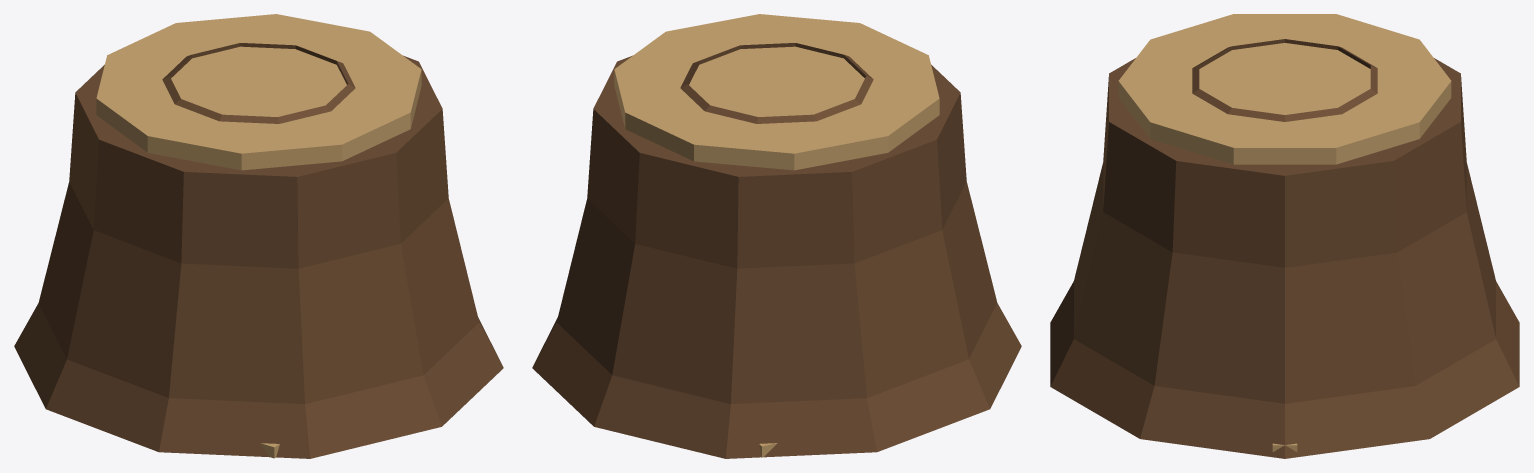
File: stump.glb
The picture shows the model from 3 angles, left to right: view 1: azimuth 30°, elevation 25°; view 2: azimuth 150°, elevation 25°; view 3: azimuth 270°, elevation 25°; orthographic projection.
Parts seen in each view (by area): view 1: stump; view 2: stump; view 3: stump.
Part boxes in pixels (bbox=[...]): stump: bbox=[14, 14, 503, 458]; stump: bbox=[532, 14, 1021, 458]; stump: bbox=[1050, 14, 1519, 458].
Bounding box in the file's own units: 0.8 × 0.4969 × 0.7608.
